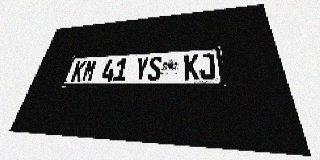1: (112, 58, 129, 81)
4: (100, 59, 117, 82)
J: (199, 53, 216, 80)
K: (184, 54, 199, 80), (70, 60, 87, 82)
M: (81, 60, 98, 82)
S: (147, 56, 162, 81)
Y: (133, 57, 149, 81)
